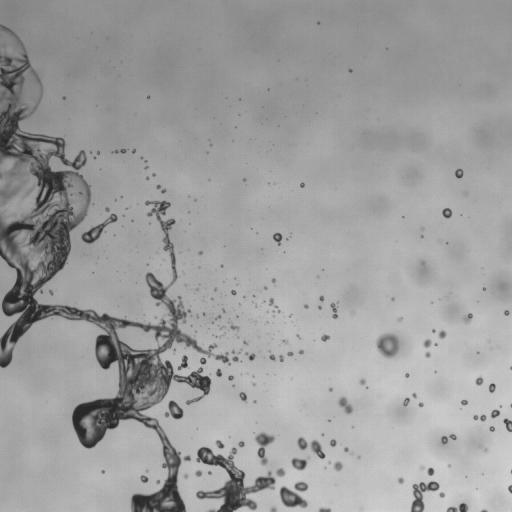droplet: (196, 447, 275, 511), (410, 481, 439, 511), (279, 481, 308, 508), (254, 432, 274, 465), (376, 333, 398, 358), (165, 400, 183, 419), (338, 396, 352, 413), (291, 457, 308, 470), (177, 355, 188, 370), (273, 232, 282, 245), (232, 349, 241, 361), (503, 418, 511, 431), (442, 208, 451, 218), (463, 313, 472, 323), (333, 461, 342, 471), (245, 352, 255, 360), (455, 169, 463, 178), (475, 376, 483, 385), (491, 409, 499, 418), (215, 440, 224, 448), (276, 468, 285, 476), (438, 330, 446, 338), (423, 339, 431, 347), (321, 334, 330, 341), (239, 392, 246, 401), (427, 467, 434, 475), (140, 475, 148, 482), (489, 383, 495, 392), (403, 397, 409, 406), (269, 352, 275, 360), (359, 378, 365, 385), (461, 399, 468, 405), (330, 439, 336, 446), (398, 477, 404, 484), (238, 441, 244, 447), (195, 470, 201, 476), (214, 315, 221, 320), (216, 369, 221, 376), (319, 295, 324, 301), (270, 506, 276, 511), (0, 44, 5, 49), (231, 290, 236, 295), (504, 310, 509, 315), (282, 339, 287, 344), (287, 351, 292, 356), (425, 352, 430, 357), (228, 375, 233, 380), (489, 426, 494, 431), (439, 492, 444, 497), (279, 355, 283, 361), (421, 260, 425, 265), (243, 341, 248, 345), (299, 349, 303, 354), (419, 402, 423, 407), (344, 447, 348, 452), (300, 183, 304, 187), (105, 207, 109, 211), (198, 250, 202, 254), (49, 290, 53, 294), (304, 304, 308, 308), (398, 317, 402, 321), (405, 373, 409, 377), (412, 393, 416, 397), (184, 474, 188, 478), (132, 149, 135, 153), (272, 278, 275, 282), (152, 173, 155, 176), (318, 306, 321, 309), (297, 335, 300, 338), (172, 349, 175, 352), (329, 388, 332, 391), (421, 466, 424, 469), (208, 471, 211, 474), (156, 480, 159, 483), (348, 69, 351, 71), (243, 178, 245, 181), (220, 326, 222, 329), (432, 330, 435, 332), (434, 343, 437, 345), (252, 383, 255, 385), (102, 470, 104, 473), (145, 166, 147, 168), (146, 177, 148, 179), (72, 193, 74, 195), (421, 235, 423, 237), (264, 287, 266, 289), (391, 298, 393, 300), (222, 309, 224, 311), (289, 314, 291, 316), (485, 449, 487, 451), (358, 456, 360, 458)
ligament: (0, 24, 228, 511), (81, 213, 117, 243), (297, 437, 325, 458), (445, 503, 468, 511), (268, 298, 280, 312), (441, 434, 456, 443), (330, 302, 337, 318), (473, 414, 486, 421), (156, 185, 166, 193), (229, 322, 239, 330), (113, 149, 127, 153), (318, 507, 331, 511), (508, 484, 511, 493), (481, 509, 487, 511), (510, 366, 511, 369)
